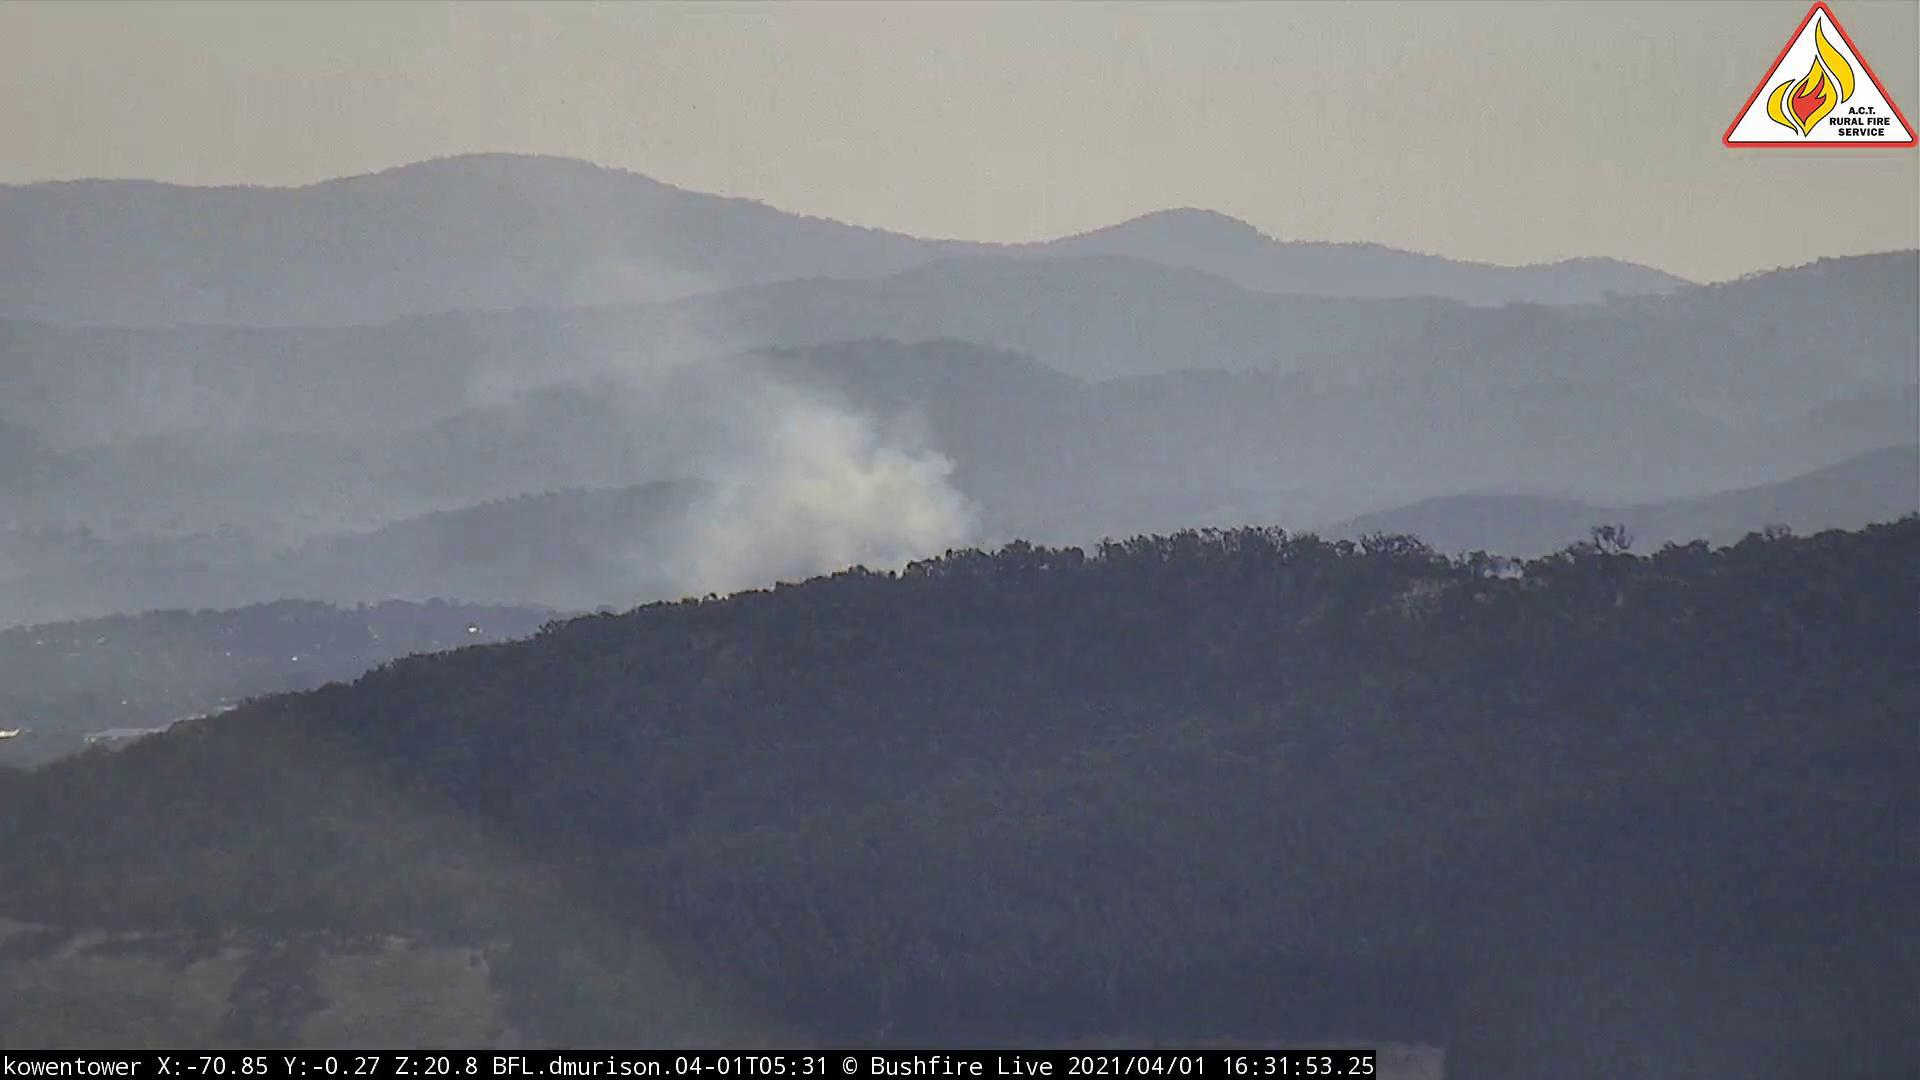instance_salient_object: (539, 375, 1021, 603)
